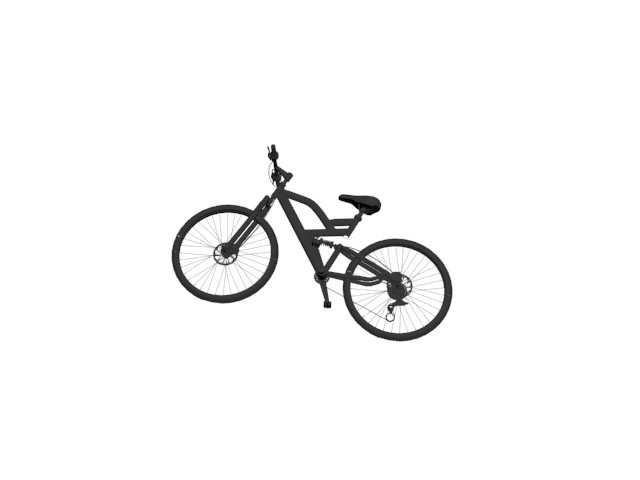bike: (169, 145, 456, 344)
